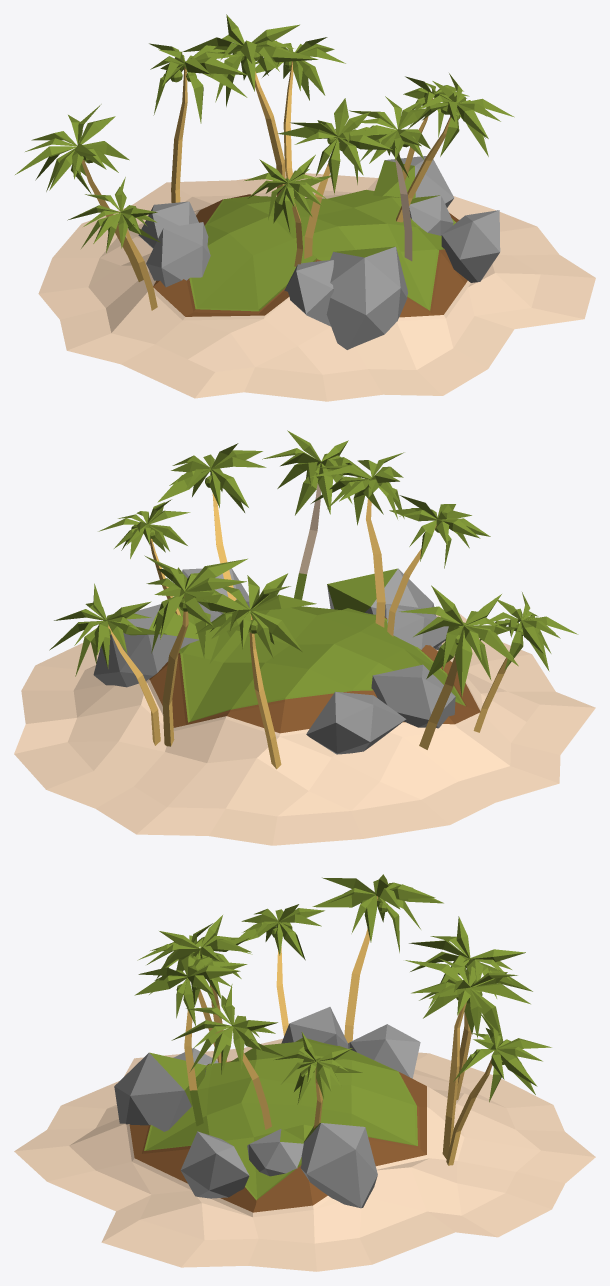
3 views of the same model, one above another, from view 1: azimuth 30°, elevation 25°; view 2: azimuth 150°, elevation 25°; view 3: azimuth 270°, elevation 25° (orthographic). The views are drawn at different scales.
Visible parts, largest first — view 1: 1220 Island; view 2: 1220 Island; view 3: 1220 Island.
Boxes of the visible parts, x1,y1,x2,y2 form: 1220 Island: (15, 14, 595, 401); 1220 Island: (14, 430, 595, 845); 1220 Island: (14, 874, 595, 1271).
Bounding box in the file's own units: 104 × 44.33 × 107.
Materials: 1 (1 with a texture image).
